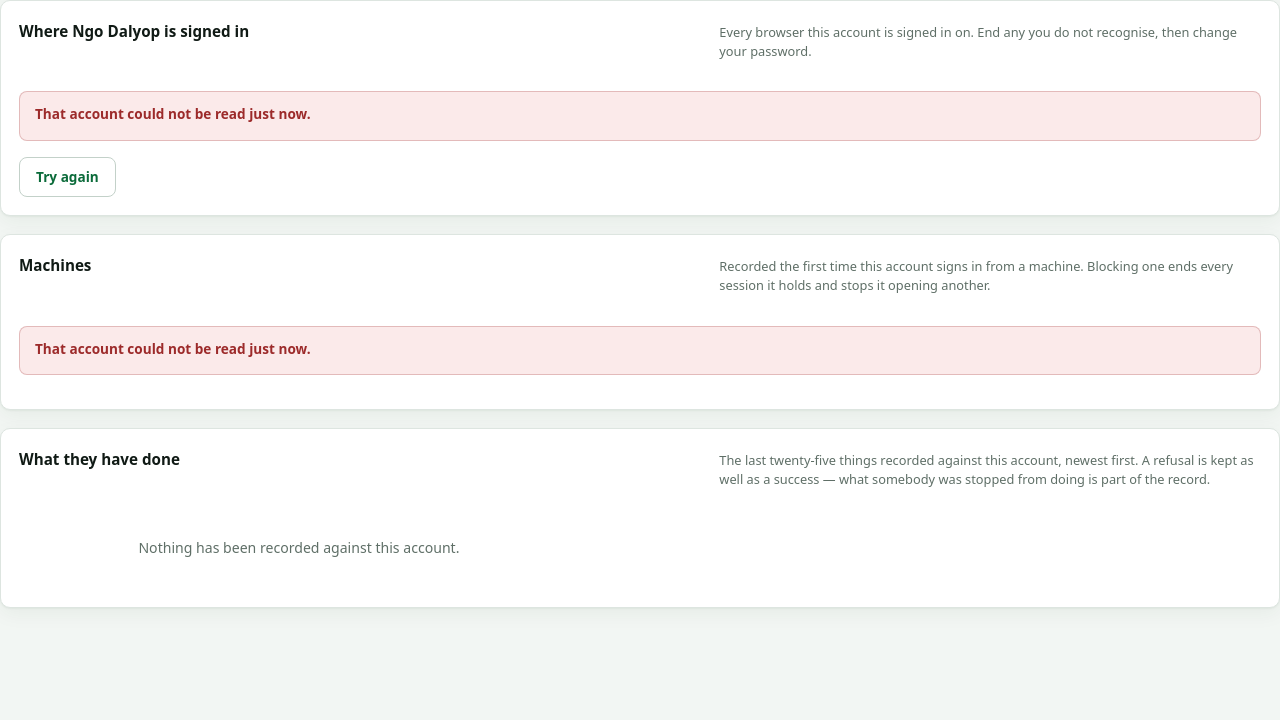
it: an administrator whose read of somebody’s access failed › can ask again, and the laptop is there
This screenshot has width=1280, height=720.
Click the button "Try again": click(67, 177) [19,157,116,197]
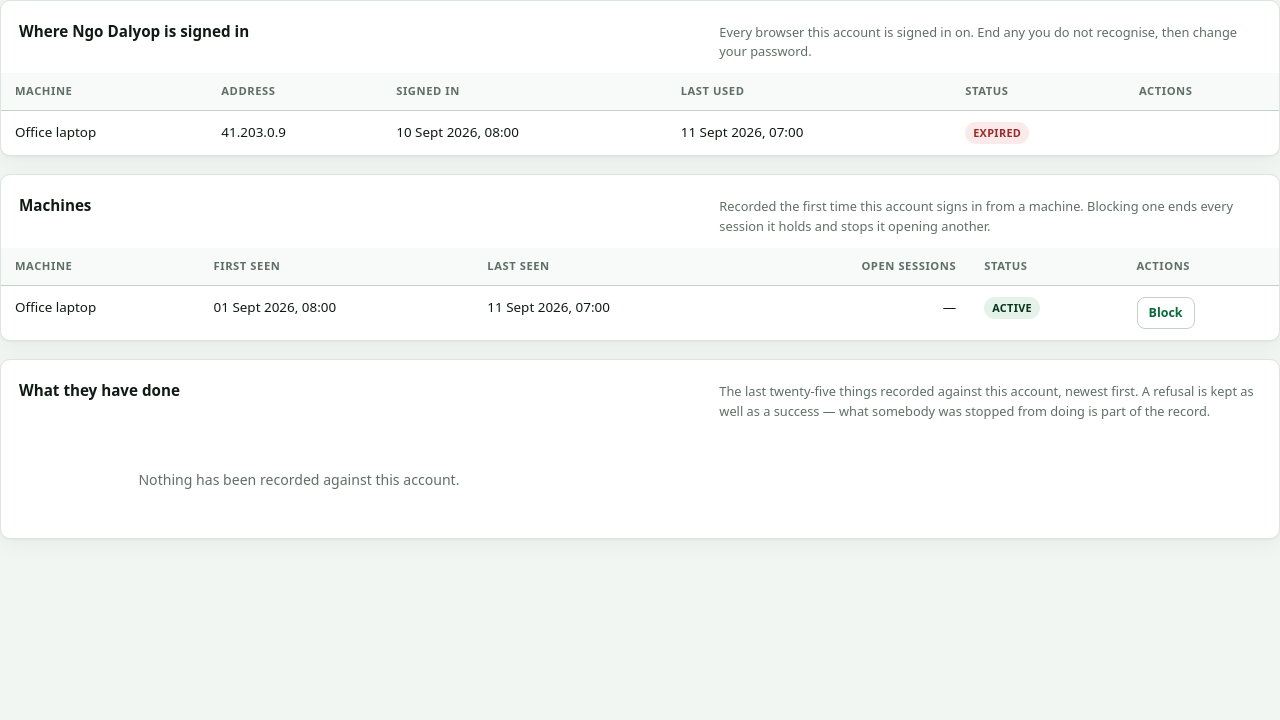
Result: the text "Office laptop" next to "41.203.0.9" is shown at [15,123,96,141]
Result: the text "That account could not be read just now." is gone
